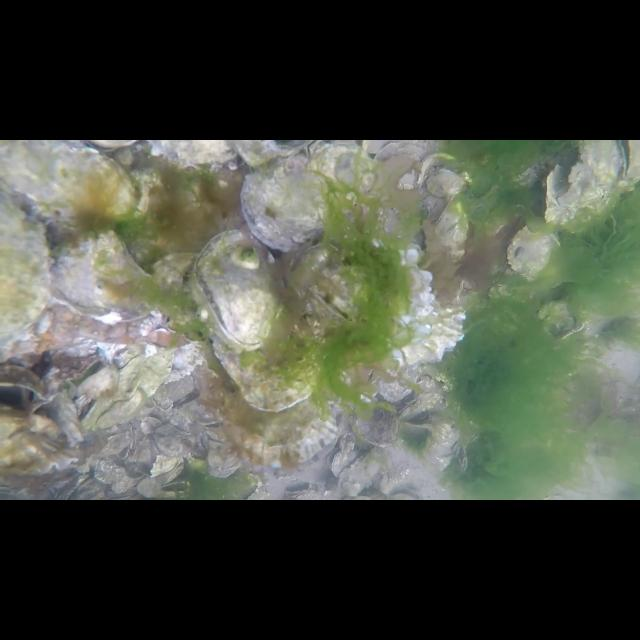Oyster-Closed: (238, 140, 372, 250), (1, 140, 148, 224), (195, 226, 283, 350), (46, 227, 156, 323), (0, 199, 46, 361), (506, 224, 558, 280), (432, 194, 472, 262), (395, 392, 431, 420)
Oyster-Indeterminate: (289, 242, 466, 362), (210, 296, 328, 412), (221, 362, 339, 463), (85, 348, 172, 432), (543, 142, 621, 226), (0, 433, 78, 474), (348, 394, 400, 446), (336, 447, 384, 495), (420, 152, 470, 194), (0, 407, 60, 440), (374, 362, 416, 402), (210, 429, 242, 479)
Oyster-Open: (0, 363, 52, 417), (616, 140, 640, 188), (326, 447, 362, 478), (394, 412, 436, 436)
